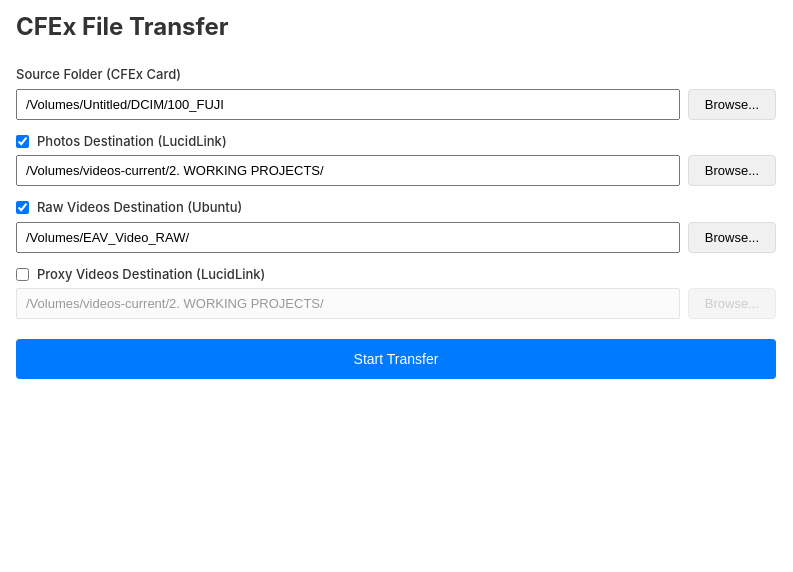
Test: CfexTransferWindow › Progress Updates (IPC Events) › displays errors when transfer fails
# Start transfer and wait for error
Type "/Volumes/InvalidPath" into the field labelled "Source Folder (CFEx Card)" at (348, 104), box [16,88,680,120]
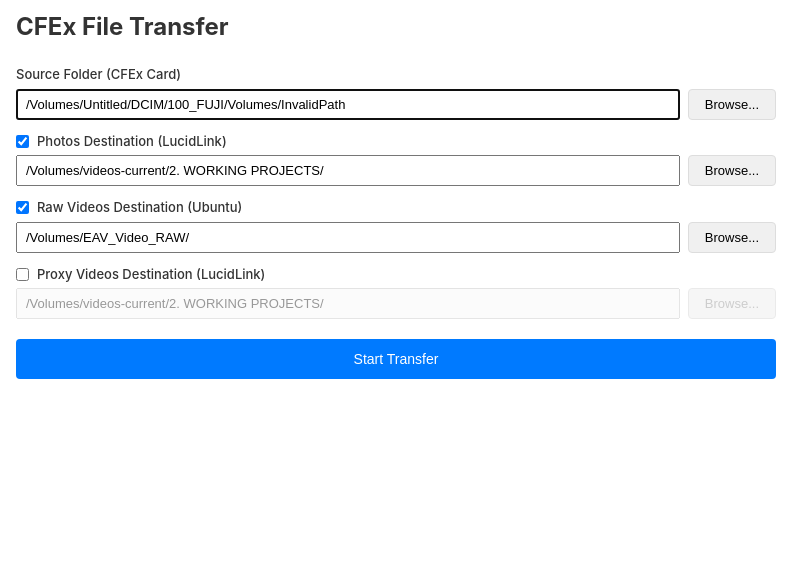
Click the button "Start Transfer" at (396, 359), box [16,339,776,379]
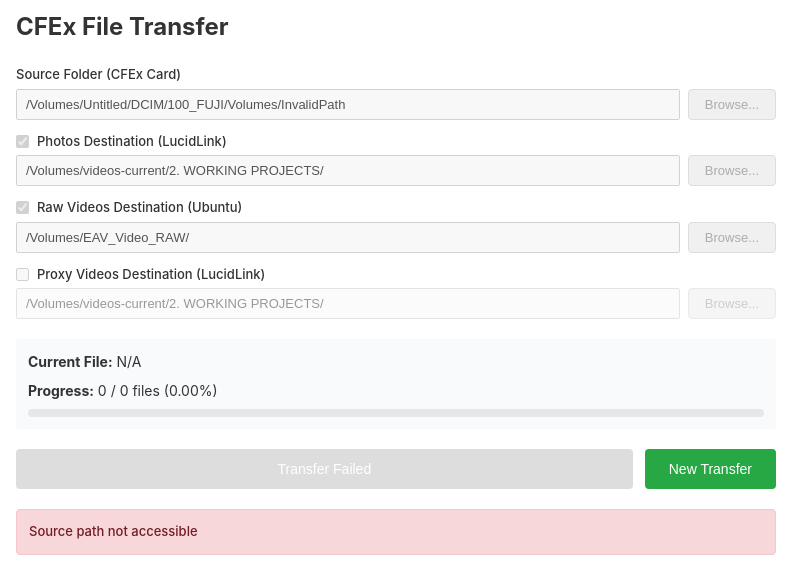
Expected: the text "Source path not accessible" is shown, [29,523,198,539]
